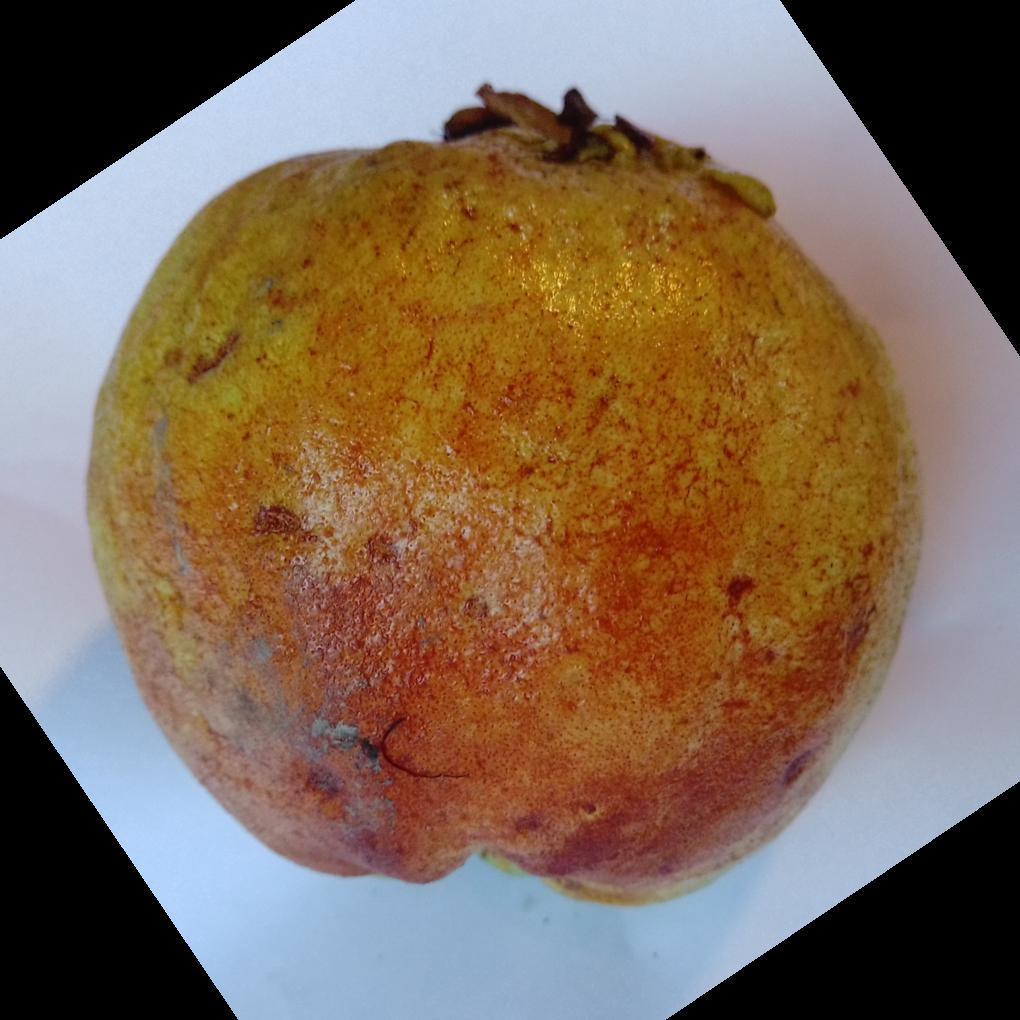FreshOrange: (81, 86, 926, 912)
